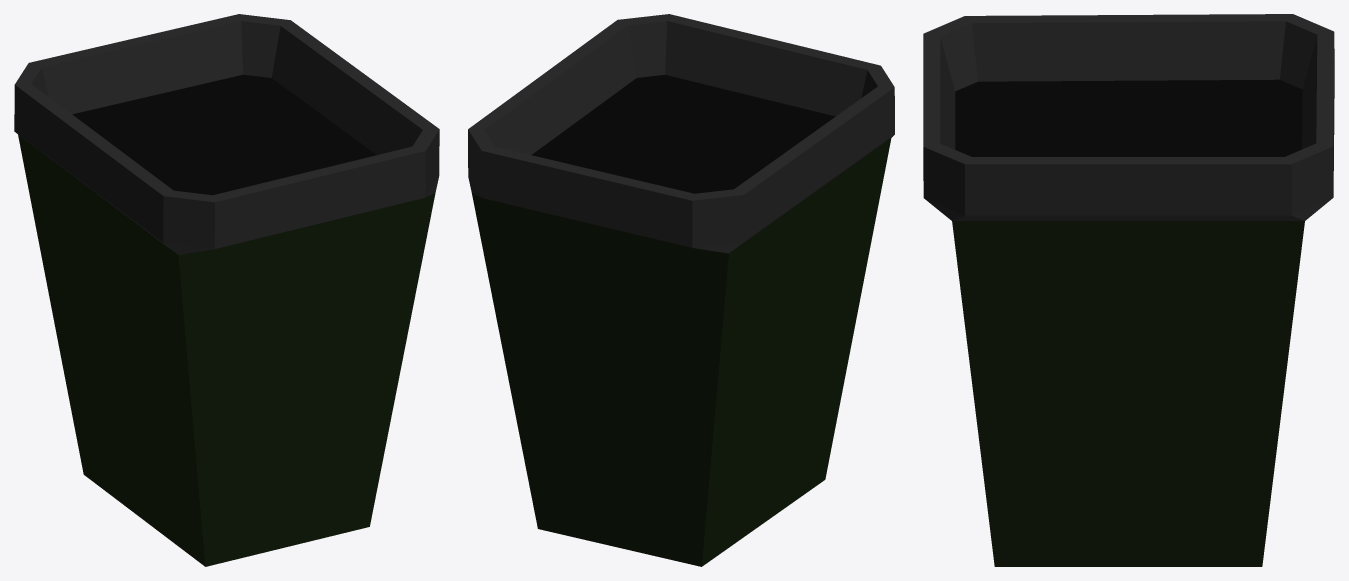
Rendered from trash bin empty.fbx.
The picture shows the model from 3 angles, left to right: view 1: azimuth 30°, elevation 25°; view 2: azimuth 150°, elevation 25°; view 3: azimuth 270°, elevation 25°; orthographic projection. The views are drawn at different scales.
Parts seen in each view (by area): view 1: Cube; view 2: Cube; view 3: Cube.
Boxes of the visible parts, x1,y1,x2,y2 form: Cube: [14, 14, 439, 566]; Cube: [468, 14, 894, 566]; Cube: [923, 14, 1334, 566].
Bounding box in the file's own units: 229 × 314 × 269.
